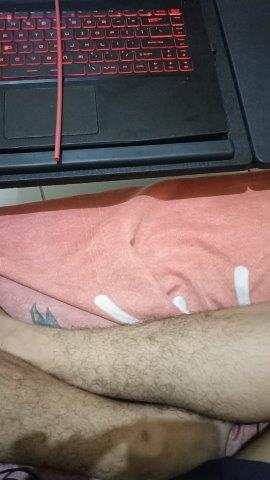sedotan: (53, 1, 62, 160)
